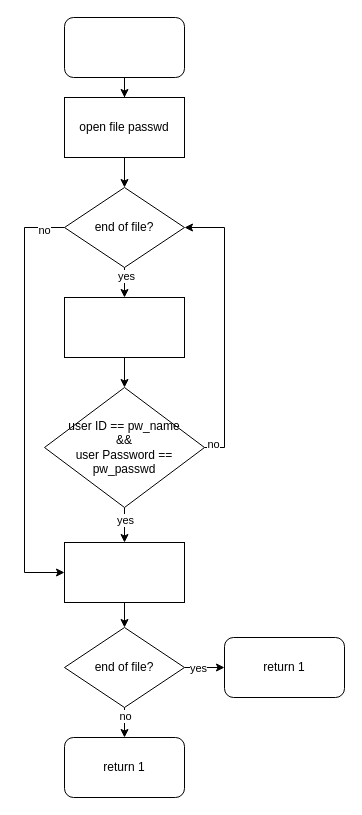
This 362x815 diagram has some shape labels left out. The shapes that lost their labels are listed below. From the top down, each one's centre as x and y in pixels, then its label:
At point (124, 47): "start".
At point (124, 327): "read pw info from file".
At point (124, 572): "close file".
